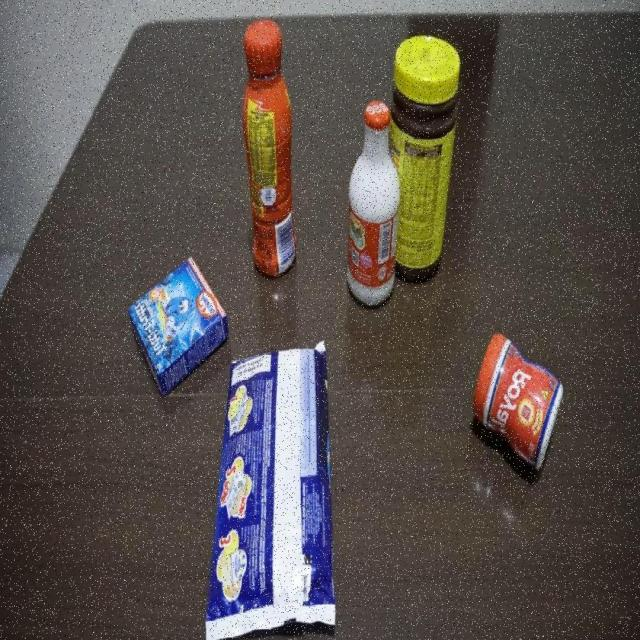ChocolateMilk: (240, 17, 300, 287)
ChocolatePowder: (380, 34, 463, 287)
CoconutMilk: (345, 100, 400, 318)
Gelatine: (124, 255, 229, 401)
Popcorn: (205, 338, 336, 640)
Yeast: (470, 334, 566, 476)
